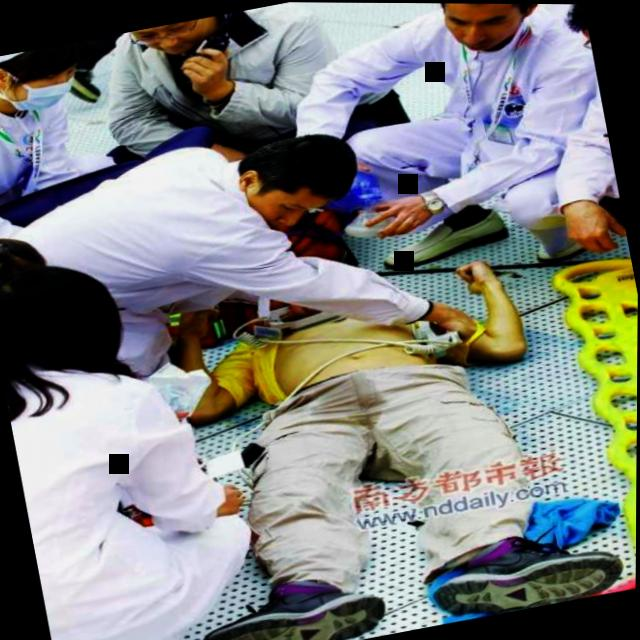Fall-Detected: (125, 165, 606, 640)
